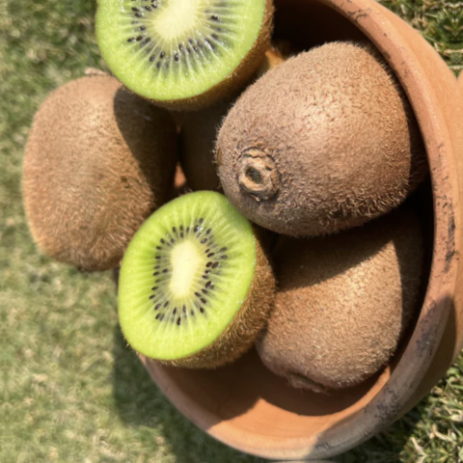kiwi: (177, 30, 436, 253), (13, 51, 189, 279)
